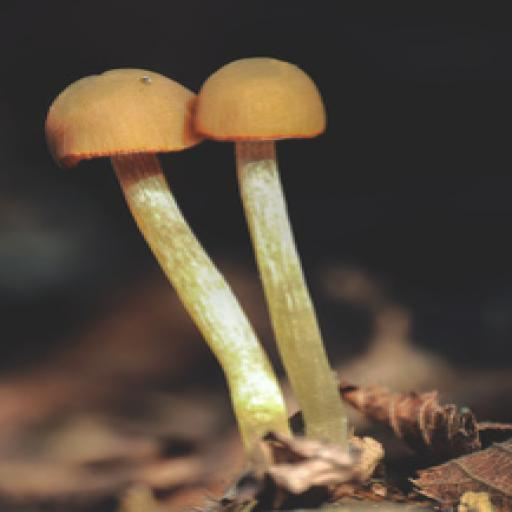mushroom: (30, 51, 400, 461)
